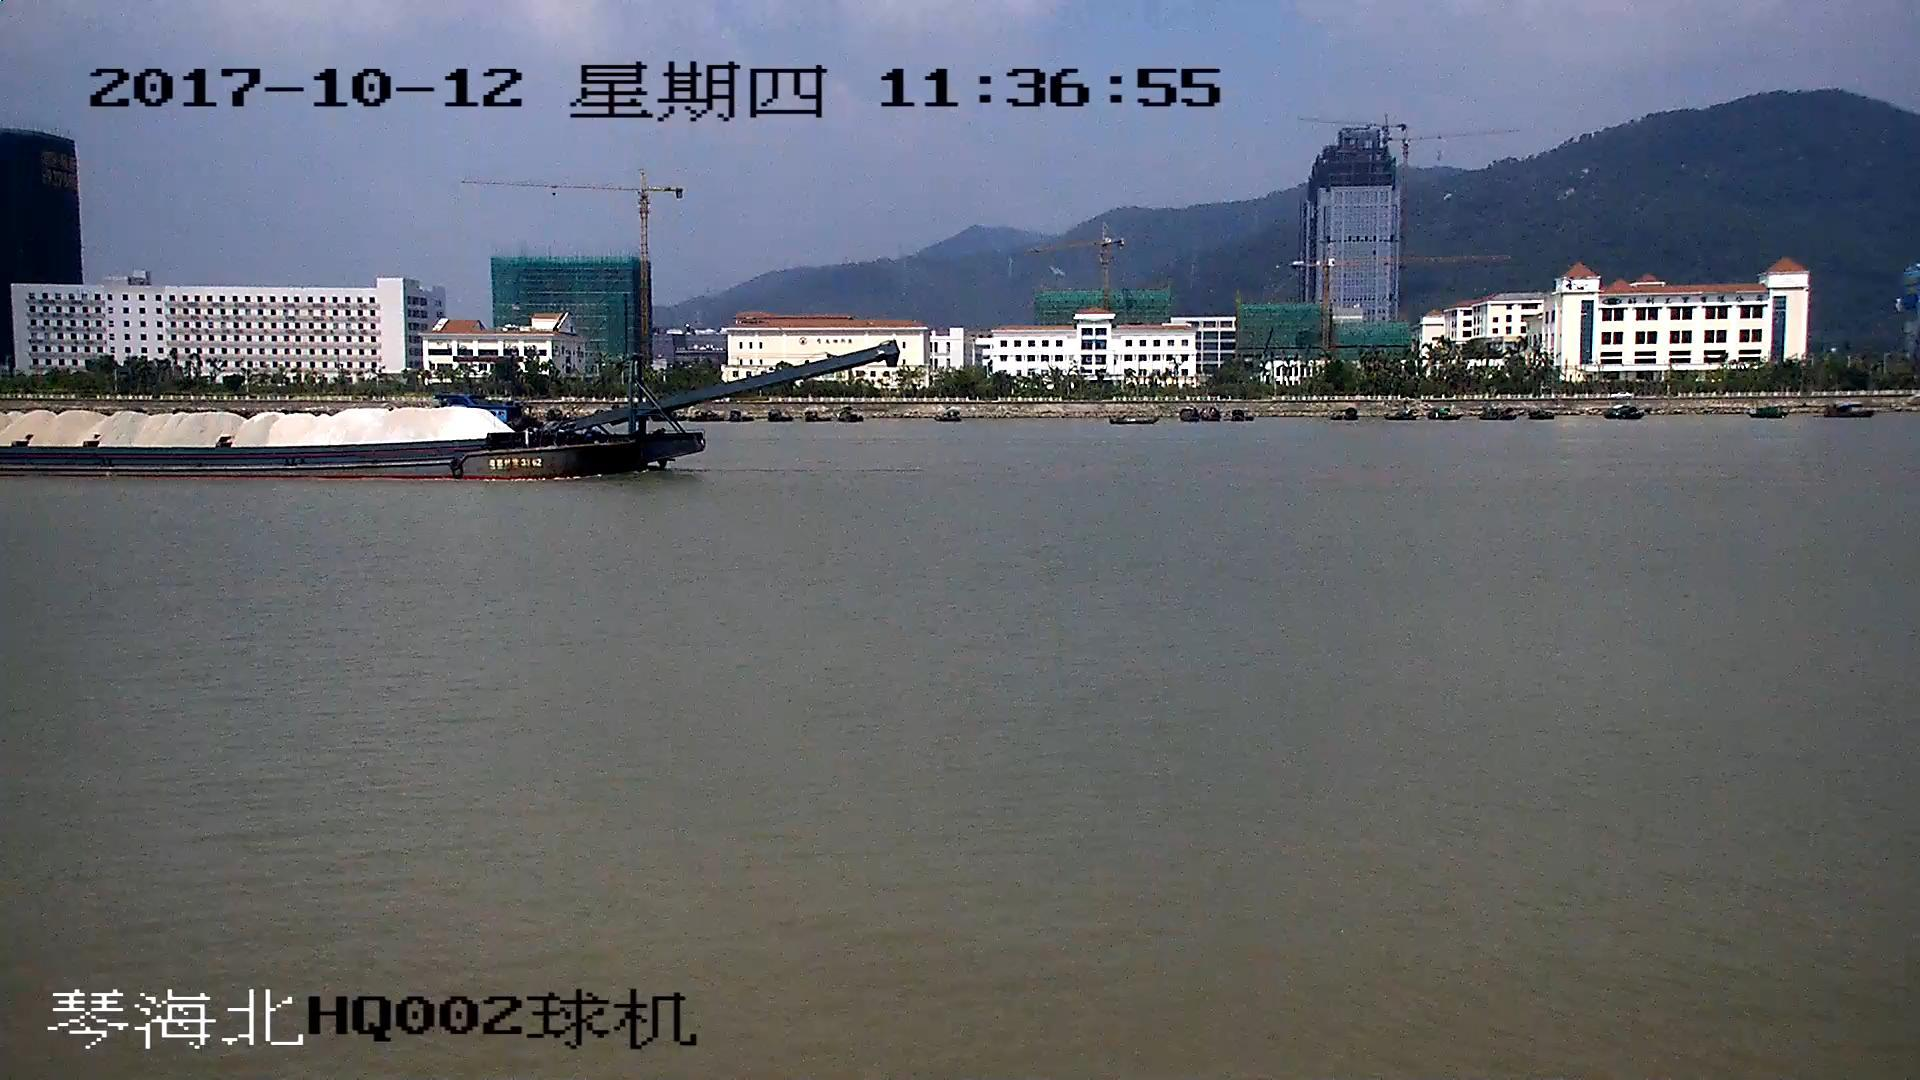Ship: (3, 345, 895, 480)
